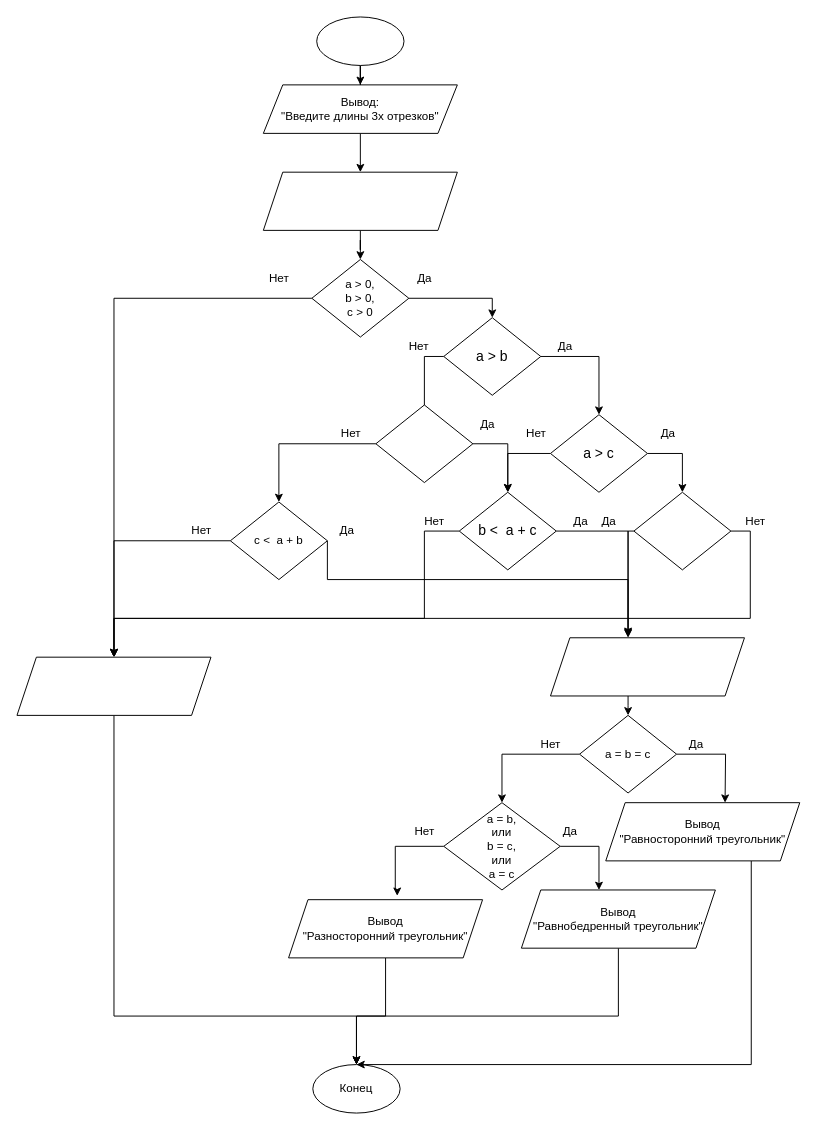
Image size: 817x1130. Some labels were removed from this diagram. Here are the shapes that lost their labels. From the top down, the centre of each, then its label:
point 360,40: Начало
point 359,200: Ввод: a,b,c
point 424,443: b > c
point 682,530: a < b + c
point 113,685: Вывод "Треугольник построить нельзя"
point 647,666: Вывод "Можно построить треугольник"
